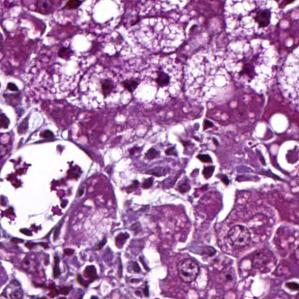ballooning: (76, 62, 133, 114)
